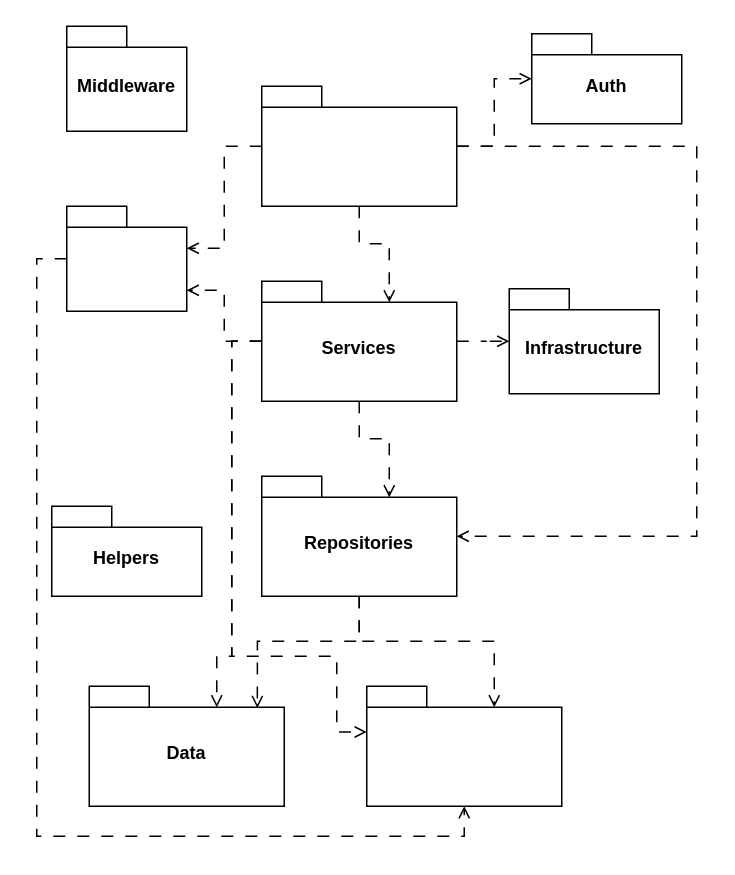
Image size: 735x875. Some labels were removed from this diagram. Each missing label, with the centre of its shape:
"Controllers" goes at (x=358, y=145).
"DTOs" goes at (x=126, y=258).
"Models" goes at (x=463, y=745).
